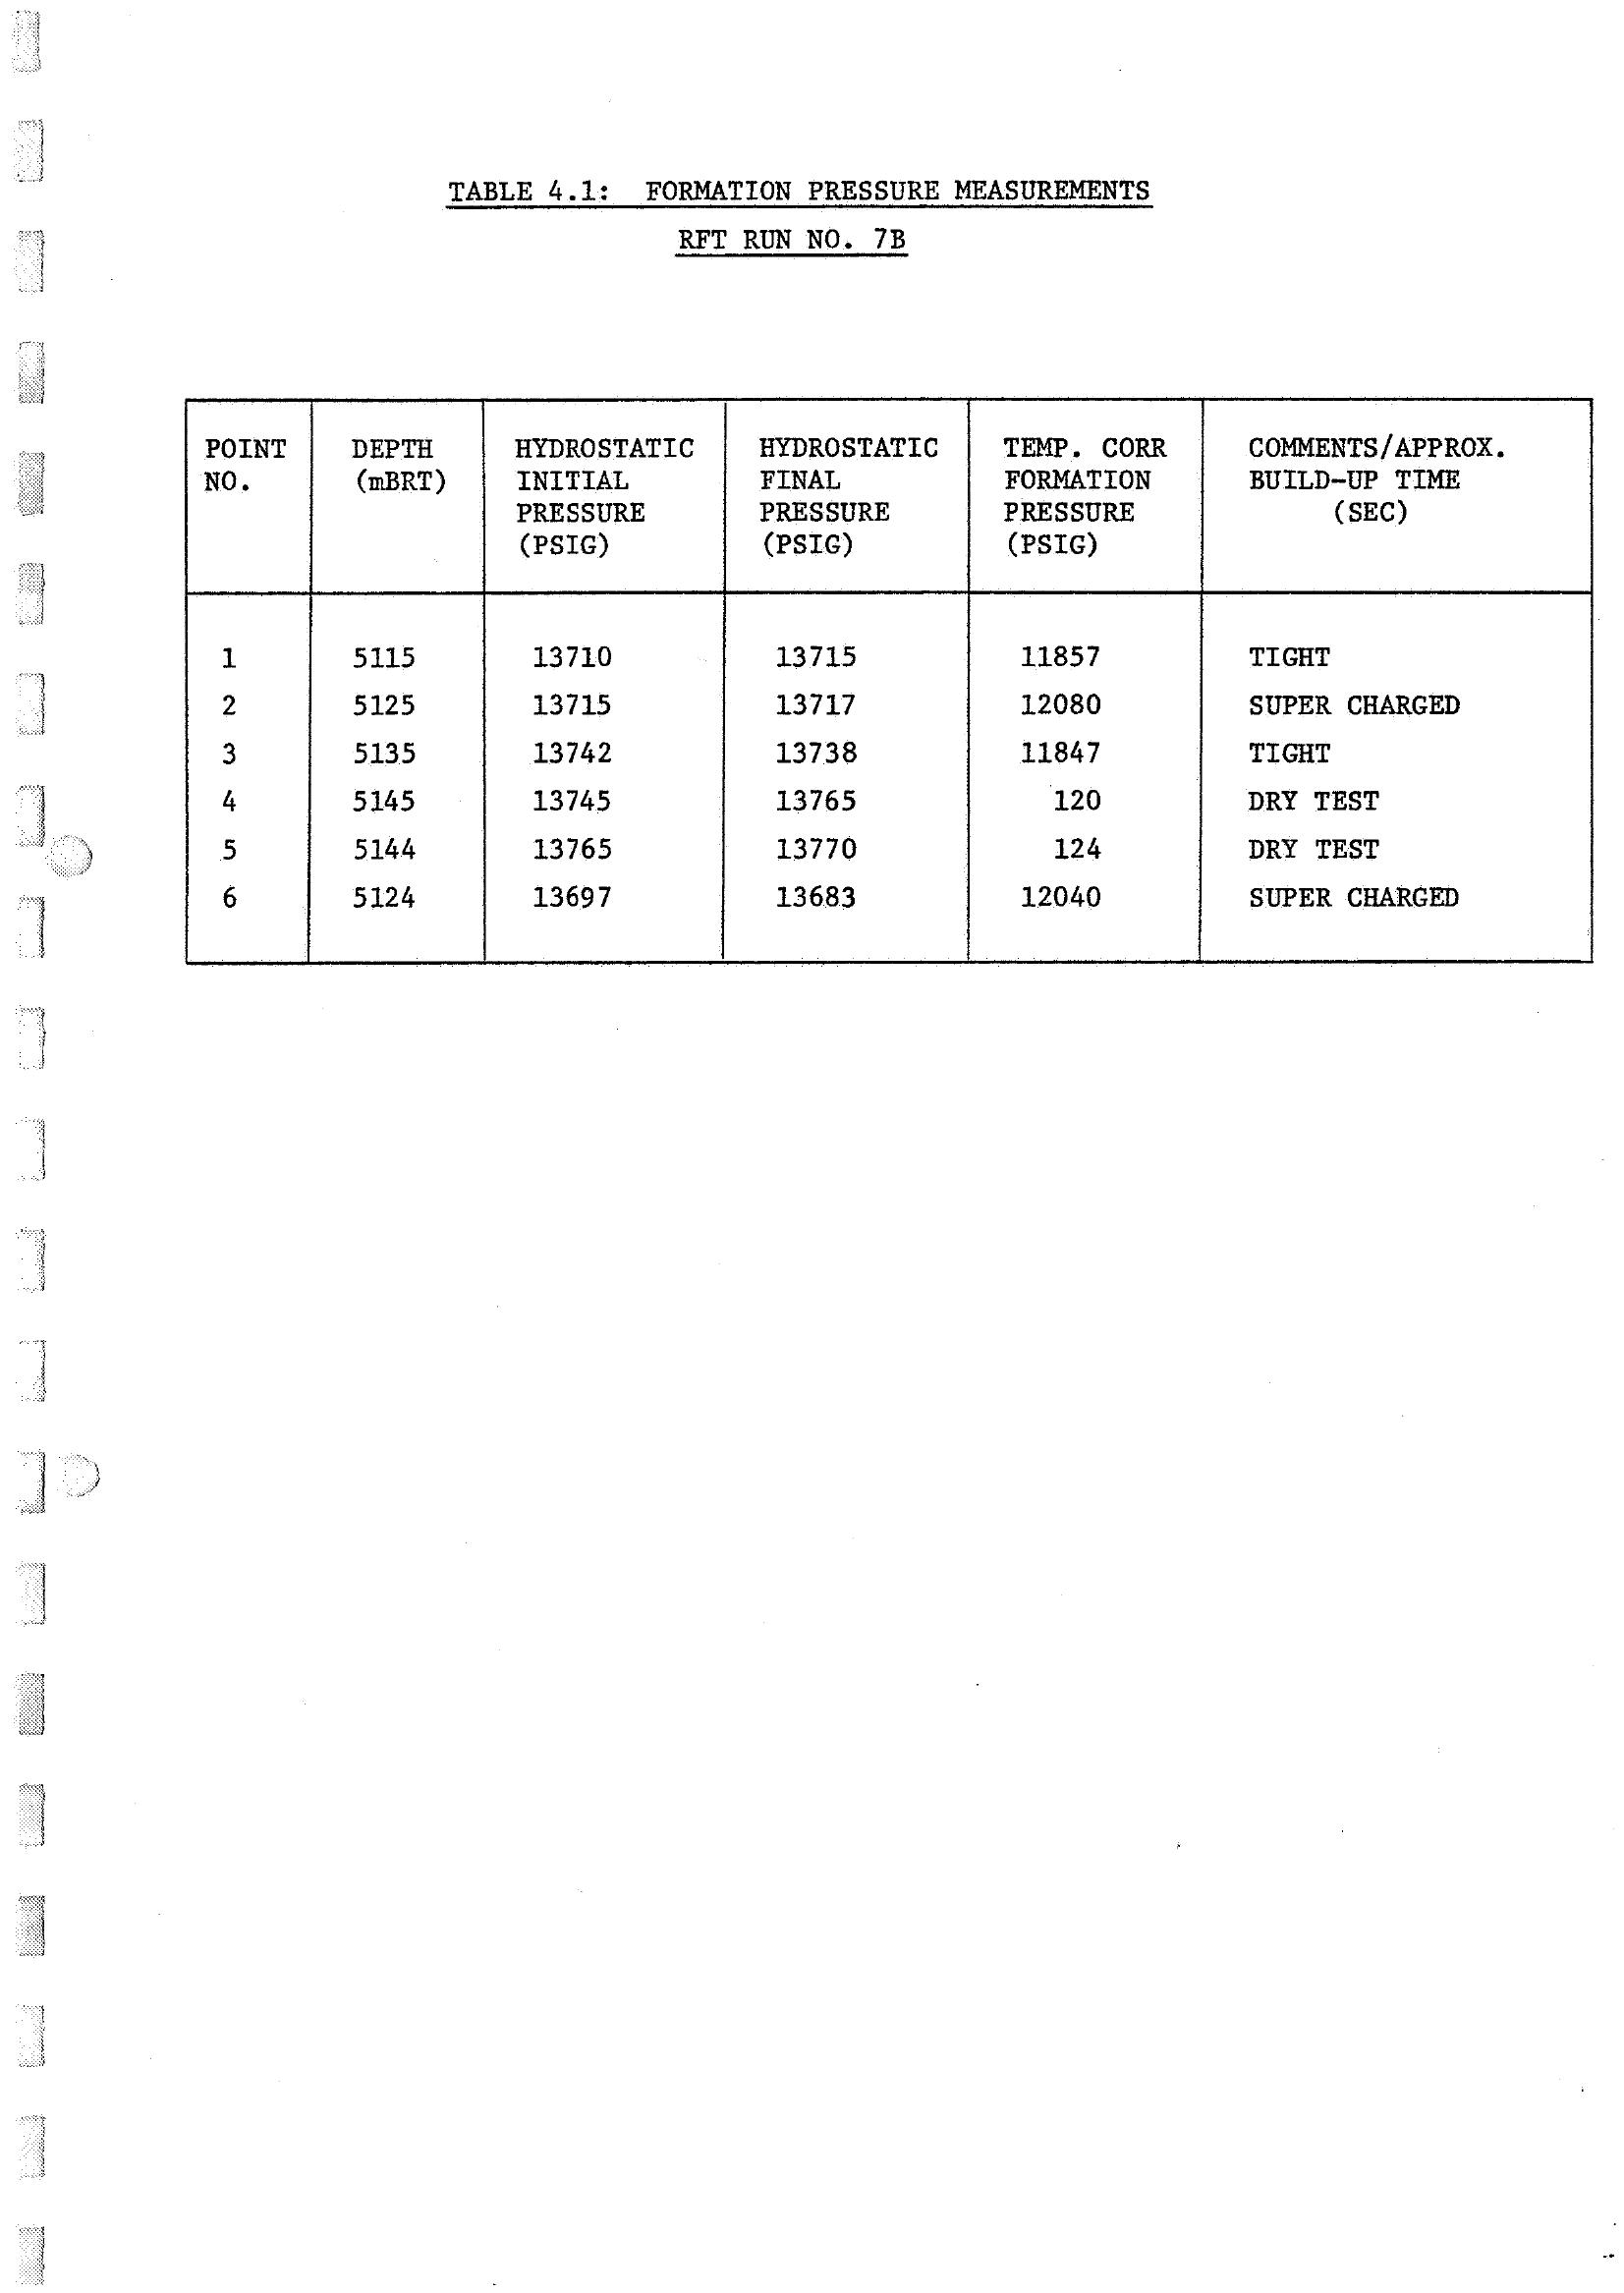table: (151, 162, 1620, 1002)
